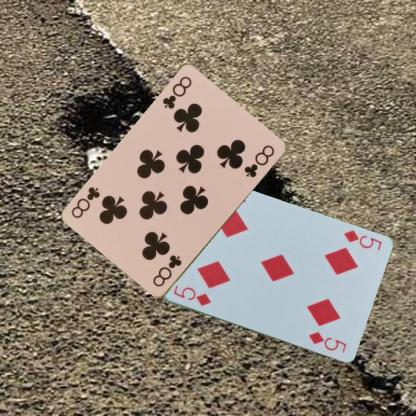5d: (170, 283, 212, 308), (341, 228, 382, 252)
8c: (159, 73, 193, 111), (150, 252, 183, 289)
